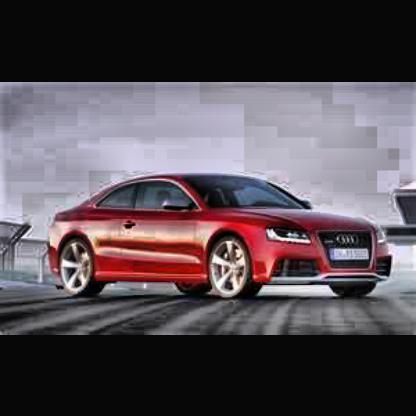Audi A5 Coupe 2012: (46, 172, 399, 305)
